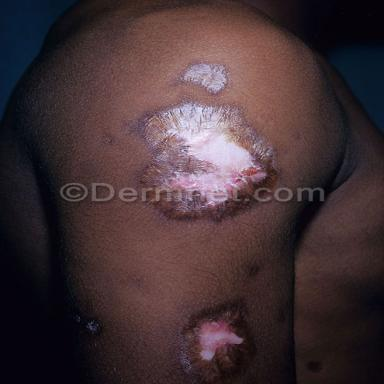Lupus-Erythematosus-Chronicus-Discoides: (129, 97, 281, 191), (179, 303, 255, 384), (175, 61, 235, 96), (155, 200, 252, 221)
